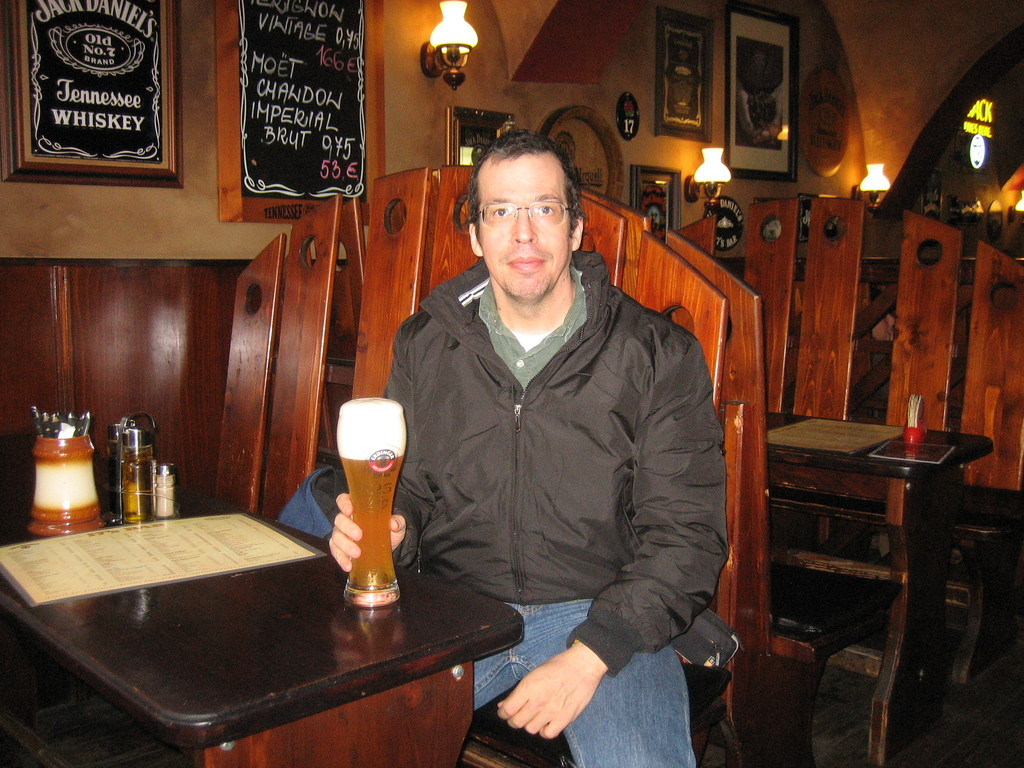Beer: (324, 398, 405, 597)
